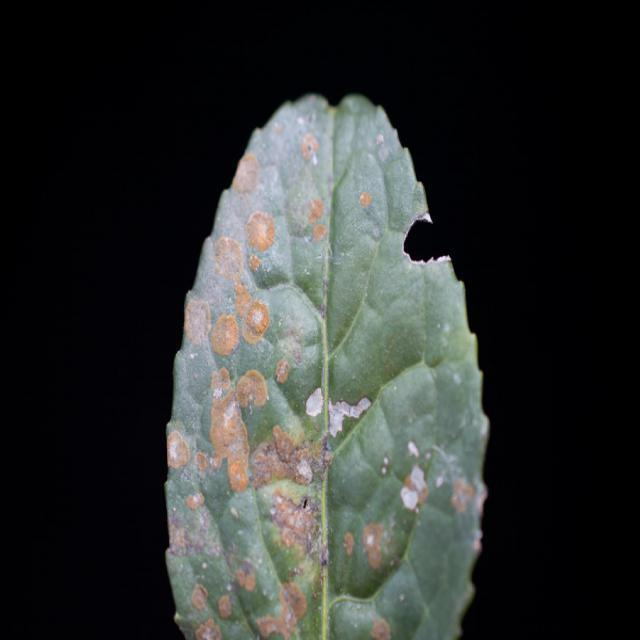Tea red rust: (174, 134, 428, 616)
